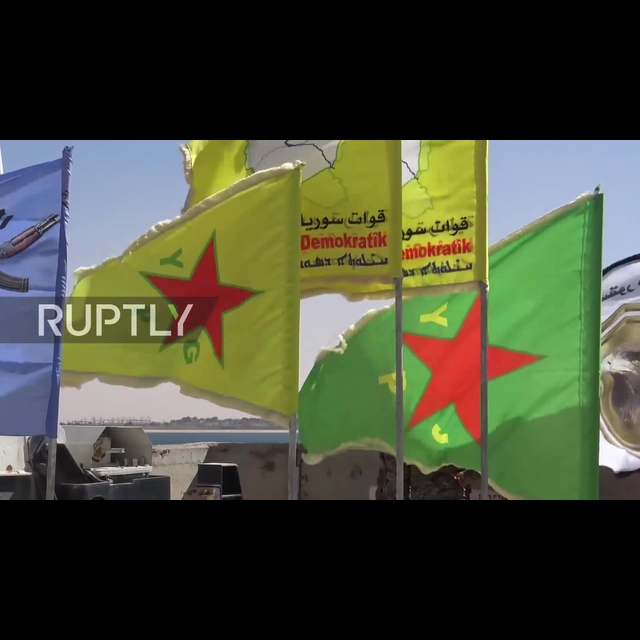YPJ: (364, 306, 563, 452)
